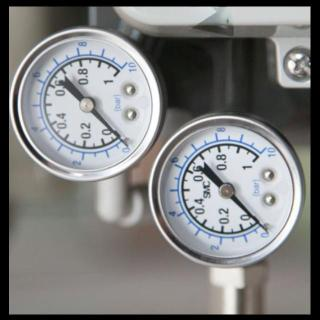gauge: (8, 13, 168, 187), (148, 110, 310, 272), (112, 128, 134, 151), (253, 215, 273, 237), (113, 58, 133, 78), (252, 142, 272, 162), (218, 182, 236, 198), (79, 96, 95, 112), (261, 226, 271, 236), (121, 140, 131, 150)
